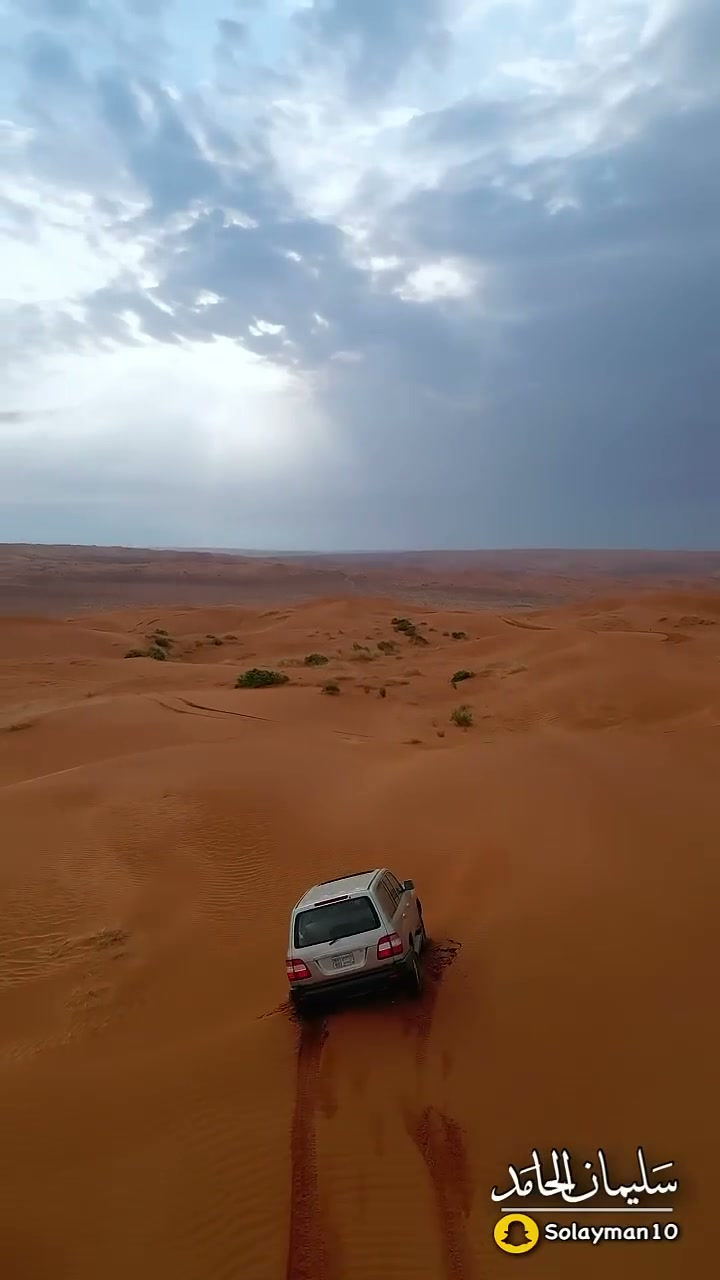vehicle_track: (409, 974, 476, 1268), (285, 1010, 339, 1265)
